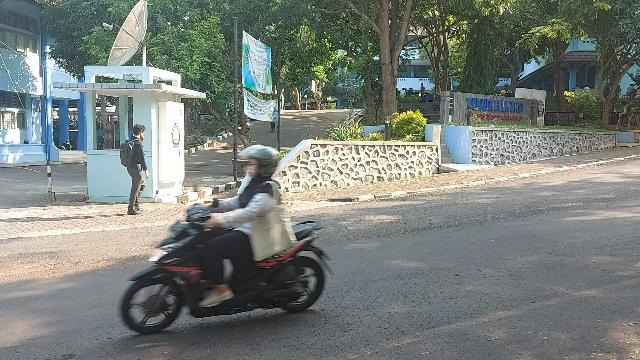helm: (238, 147, 280, 180)
motor: (121, 185, 337, 337)
